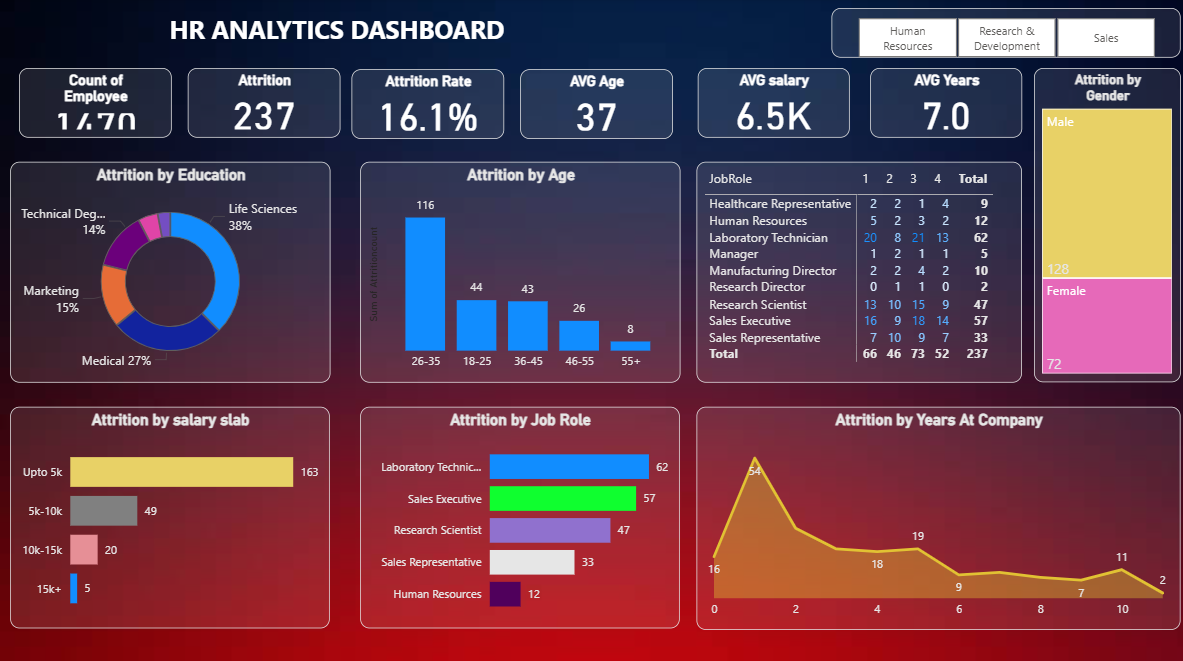

This screenshot's page, from the dashboard's own definition file:
{"tool":"powerbi","page":{"name":"Page 1","canvas":[1280,720],"ordinal":0},"visuals":[{"type":"card","title":"Count of Employee","fields":{"Values":["CountNonNull(HR_Analytics.EmpID)"]},"box":[21.6,76.1,164.7,75.5],"z":0},{"type":"card","title":"Attrition","fields":{"Values":["Sum(HR_Analytics.Attritioncount)"]},"box":[204.1,76.1,164.7,75.5],"z":1000},{"type":"card","title":"Attrition Rate","fields":{"Values":["HR_Analytics.Attritionrate"]},"box":[381.1,77.4,164.7,75.5],"z":2000},{"type":"card","title":"AVG Age","fields":{"Values":["Avg(HR_Analytics.Age)"]},"box":[562.2,77.4,164.7,75.5],"z":3000},{"type":"card","title":"AVG salary","fields":{"Values":["Avg(HR_Analytics.MonthlyIncome)"]},"box":[753.8,75.6,163.9,75.5],"z":4000},{"type":"card","title":"AVG Years","fields":{"Values":["Avg(HR_Analytics.YearsAtCompany)"]},"box":[940.6,75.6,163.9,75.5],"z":5000},{"type":"donutChart","title":"Attrition by Education","fields":{"Category":["HR_Analytics.EducationField"],"Y":["Sum(HR_Analytics.Attritioncount)"]},"box":[12.6,176.5,345.9,238.1],"z":6000},{"type":"columnChart","title":"Attrition by  Age","fields":{"Category":["HR_Analytics.AgeGroup"],"Y":["Sum(HR_Analytics.Attritioncount)"]},"box":[389.3,176.5,345.9,238.1],"z":7000},{"type":"barChart","title":"Attrition by salary slab","fields":{"Category":["HR_Analytics.SalarySlab"],"Y":["Sum(HR_Analytics.Attritioncount)"]},"box":[12.6,441.1,344.5,239.5],"z":9000},{"type":"barChart","title":"Attrition by Job Role","fields":{"Category":["HR_Analytics.JobRole"],"Y":["Sum(HR_Analytics.Attritioncount)"]},"box":[389.3,441.1,344.5,239.5],"z":10000},{"type":"areaChart","title":"Attrition by Years At Company","fields":{"Category":["HR_Analytics.YearsAtCompany"],"Y":["Sum(HR_Analytics.Attritioncount)"]},"box":[753.4,441.1,522.4,240.9],"z":11000},{"type":"treemap","title":"Attrition by Gender","fields":{"Group":["HR_Analytics.Gender"],"Values":["Sum(HR_Analytics.Attritioncount)"]},"box":[1117.5,75.6,158.2,338.9],"z":12000},{"type":"slicer","fields":{"Values":["HR_Analytics.Department"]},"box":[899.1,11.2,376.7,53.2],"z":12001},{"type":"pivotTable","fields":{"Rows":["HR_Analytics.JobRole"],"Columns":["HR_Analytics.JobSatisfaction"],"Values":["Sum(HR_Analytics.Attritioncount)"]},"box":[753.4,176.5,351.5,238.1],"z":12002},{"type":"textbox","box":[21,11.2,686.2,53.2],"z":12003}]}

Visuals, with their boxes in screenshot pixels (x1, y1, x2, y2), scaled from the page's 1280x720 canvas onto the 1183x661 screenshot:
"Count of Employee" card: 20 70 172 139
"Attrition" card: 189 70 341 139
"Attrition Rate" card: 352 71 504 140
"AVG Age" card: 520 71 672 140
"AVG salary" card: 697 69 848 139
"AVG Years" card: 869 69 1021 139
"Attrition by Education" donutChart: 12 162 331 381
"Attrition by  Age" columnChart: 360 162 679 381
"Attrition by salary slab" barChart: 12 405 330 625
"Attrition by Job Role" barChart: 360 405 678 625
"Attrition by Years At Company" areaChart: 696 405 1179 626
"Attrition by Gender" treemap: 1033 69 1179 381
slicer - HR_Analytics.Department: 831 10 1179 59
pivotTable - HR_Analytics.JobRole x HR_Analytics.JobSatisfaction: 696 162 1021 381
textbox: 19 10 654 59
